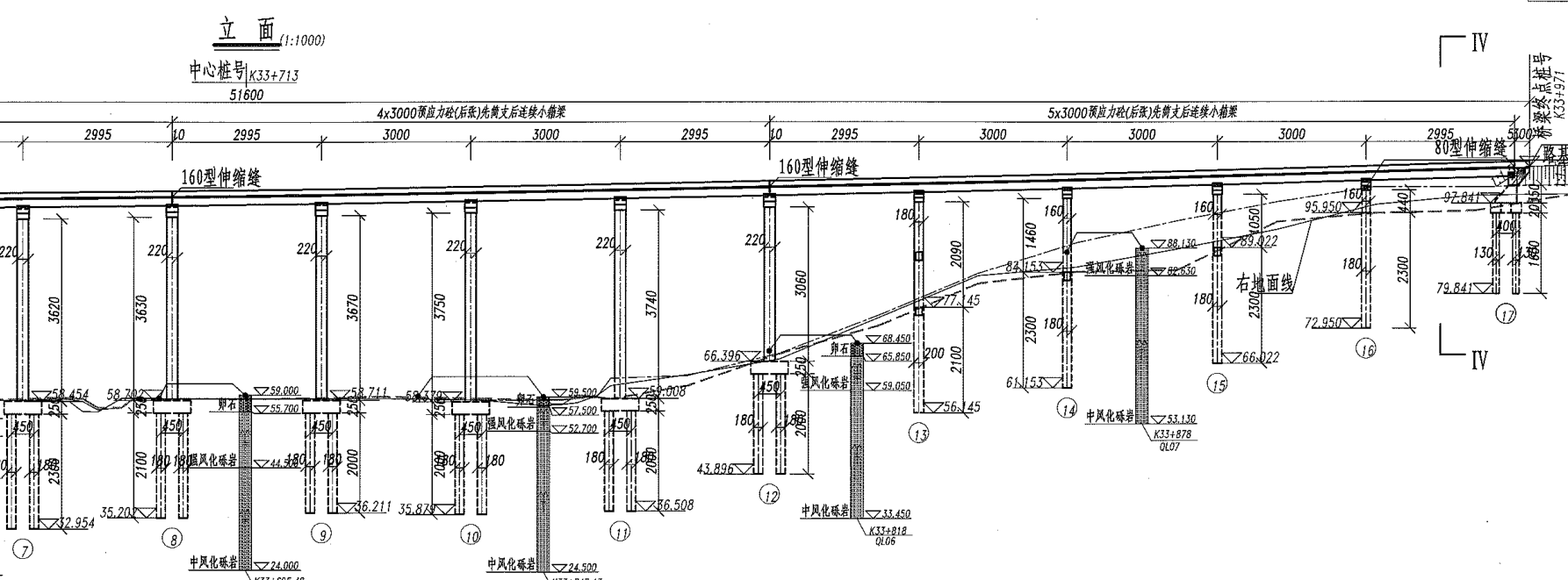A: (1, 86, 1540, 105)
B: (762, 102, 1521, 125), (166, 100, 785, 127)
C: (584, 194, 696, 545), (286, 201, 392, 546), (397, 197, 499, 547), (690, 188, 794, 514), (126, 198, 202, 548), (891, 186, 975, 448), (1187, 180, 1282, 399), (1003, 183, 1083, 428), (1, 198, 47, 569), (1298, 172, 1385, 363), (1436, 186, 1543, 337)
